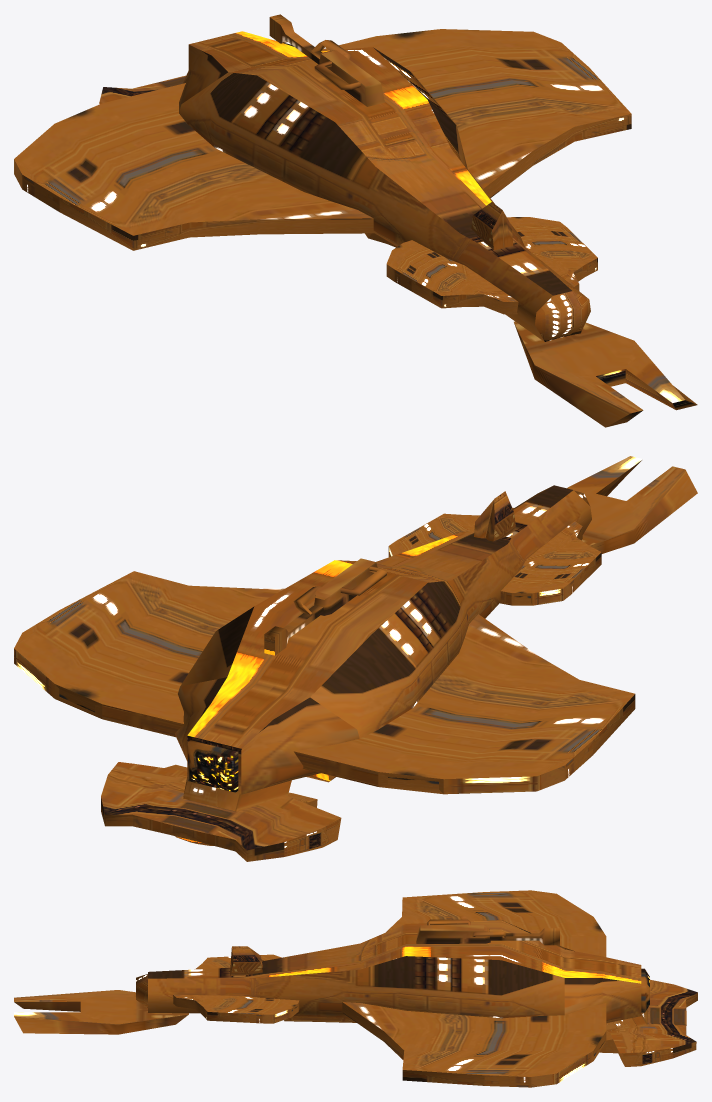
File: Car_Kulinor.fbx
3 views of the same model, one above another, from view 1: azimuth 30°, elevation 25°; view 2: azimuth 150°, elevation 25°; view 3: azimuth 270°, elevation 25° (orthographic). The views are drawn at different scales.
Parts seen in each view (by area): view 1: Car_Kulinor; view 2: Car_Kulinor; view 3: Car_Kulinor.
Part boxes in pixels (x1,y1,x2,y2): Car_Kulinor: (14, 14, 697, 427); Car_Kulinor: (14, 456, 697, 861); Car_Kulinor: (14, 890, 697, 1087).
Bounding box in the file's own units: 387 × 113 × 599.
Materials: 1 (1 with a texture image).
